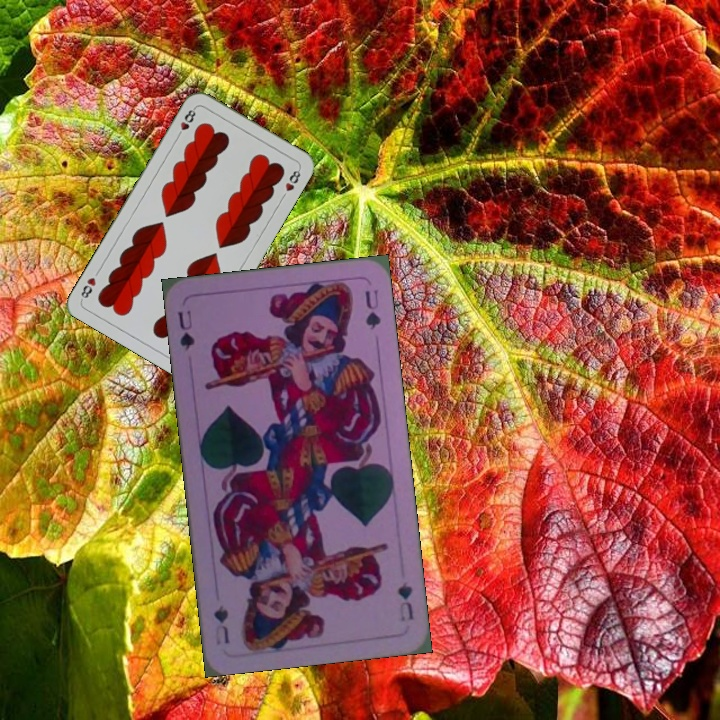GU: (174, 306, 197, 353), (394, 577, 416, 624)
H8: (173, 103, 198, 140)
